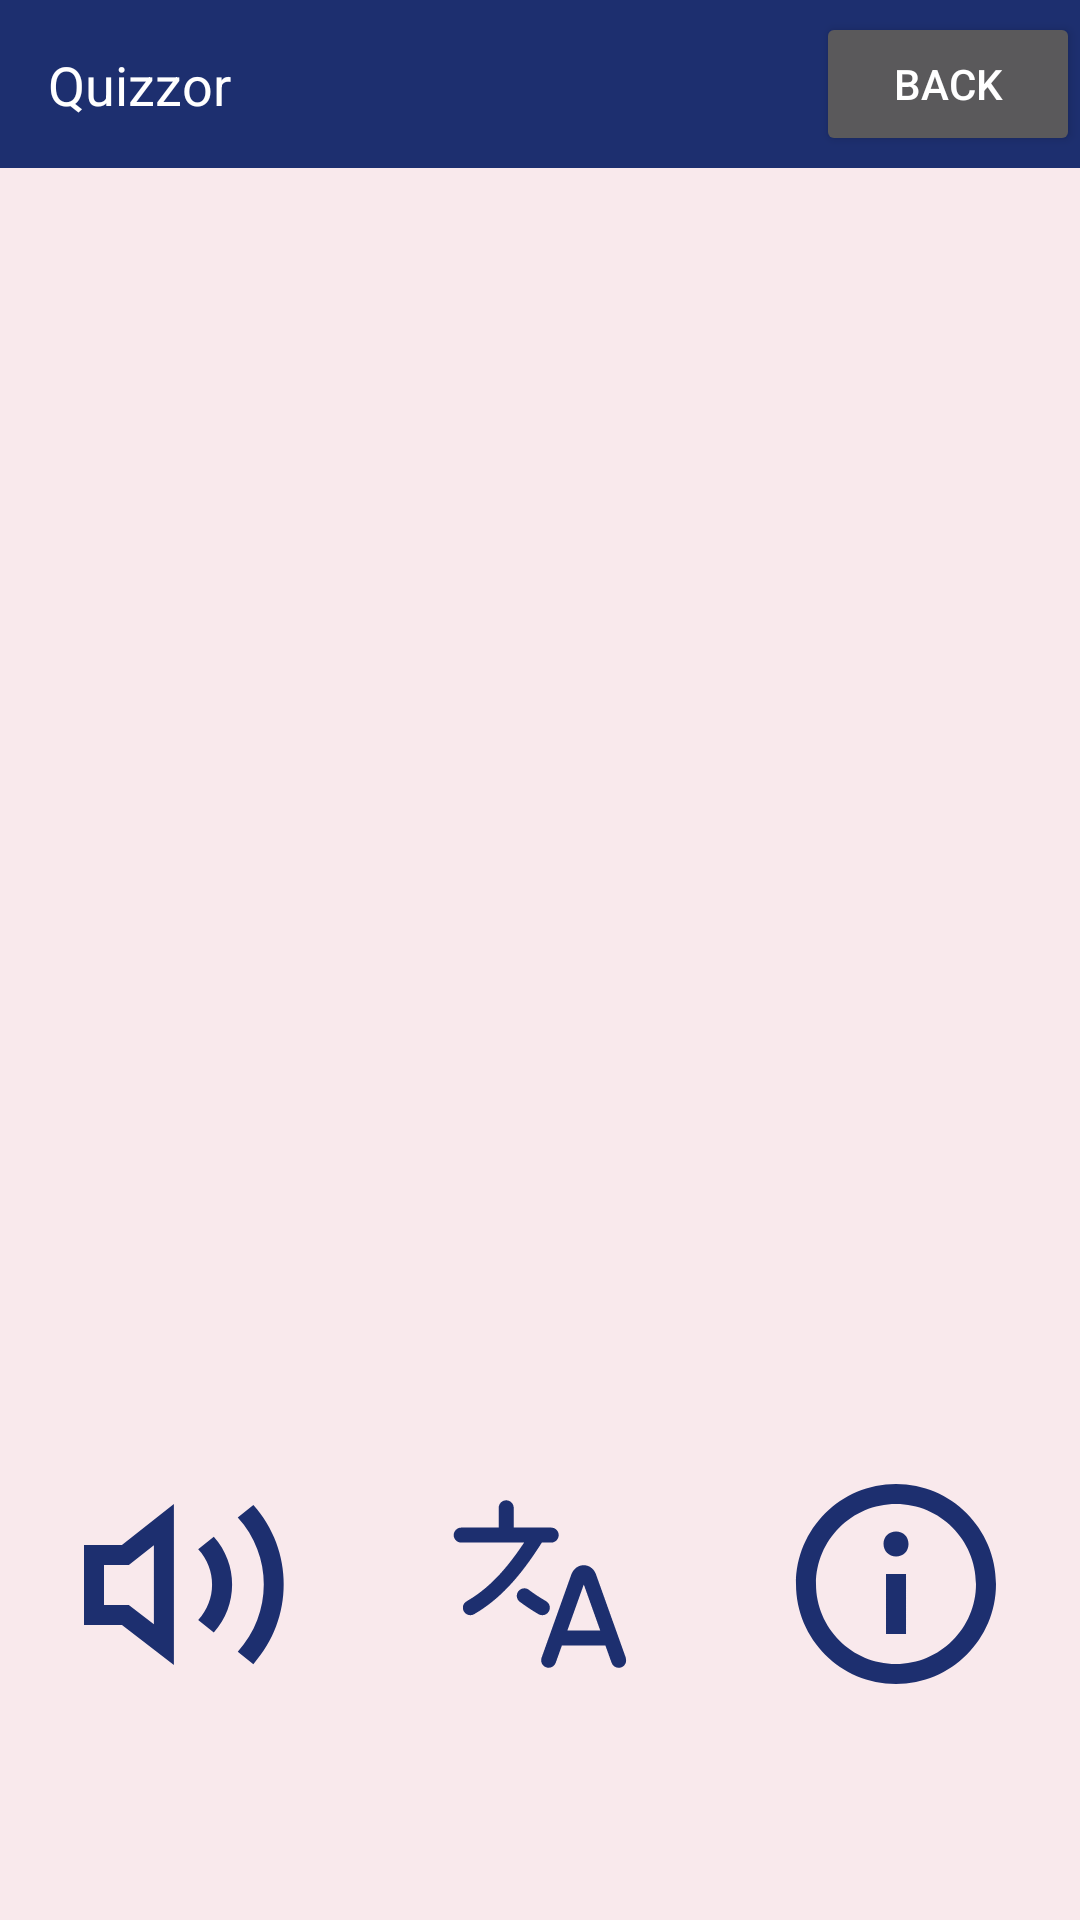

Where to tap for icons on this 1080*1920 app screen, as [x,y]:
settings about: [896,1584]
settings language: [539,1584]
settings sound: [184,1584]
